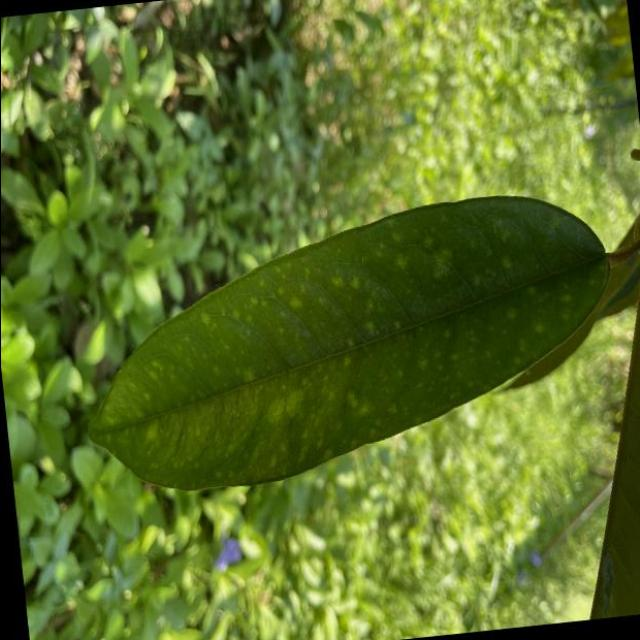Leaf Spot: (56, 182, 630, 514)
